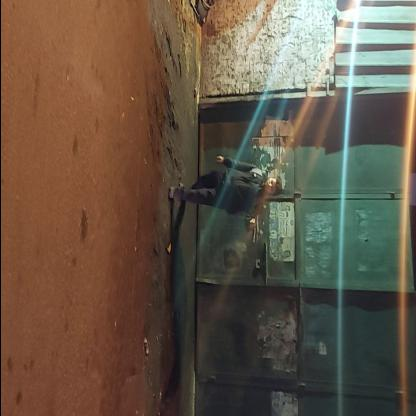long weapon: (242, 195, 262, 249)
